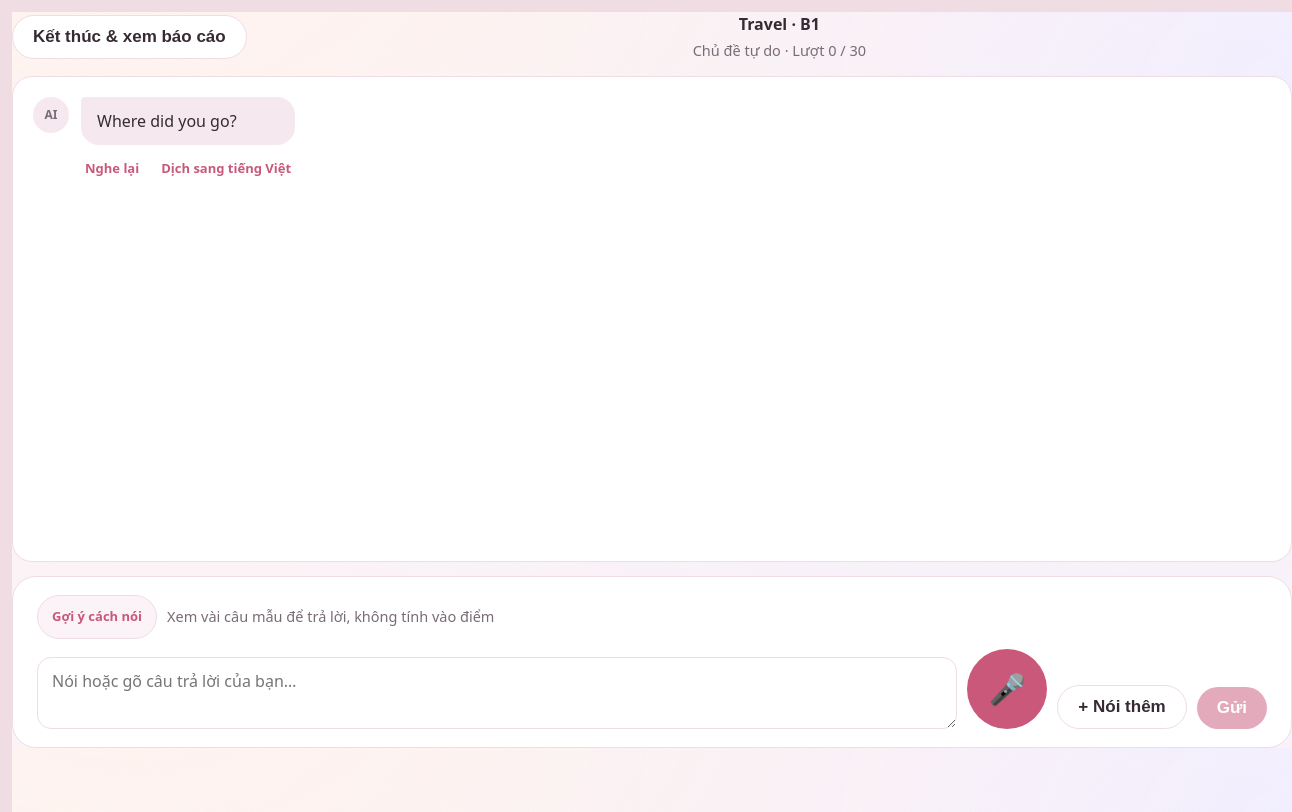
ConversationSessionPage — listen back before sending › drops a re-recorded take from the offer: nothing left to hear after Thu lại is pending
Click the button named "Bắt đầu ghi âm" at (1007, 689), box [967,649,1047,729]
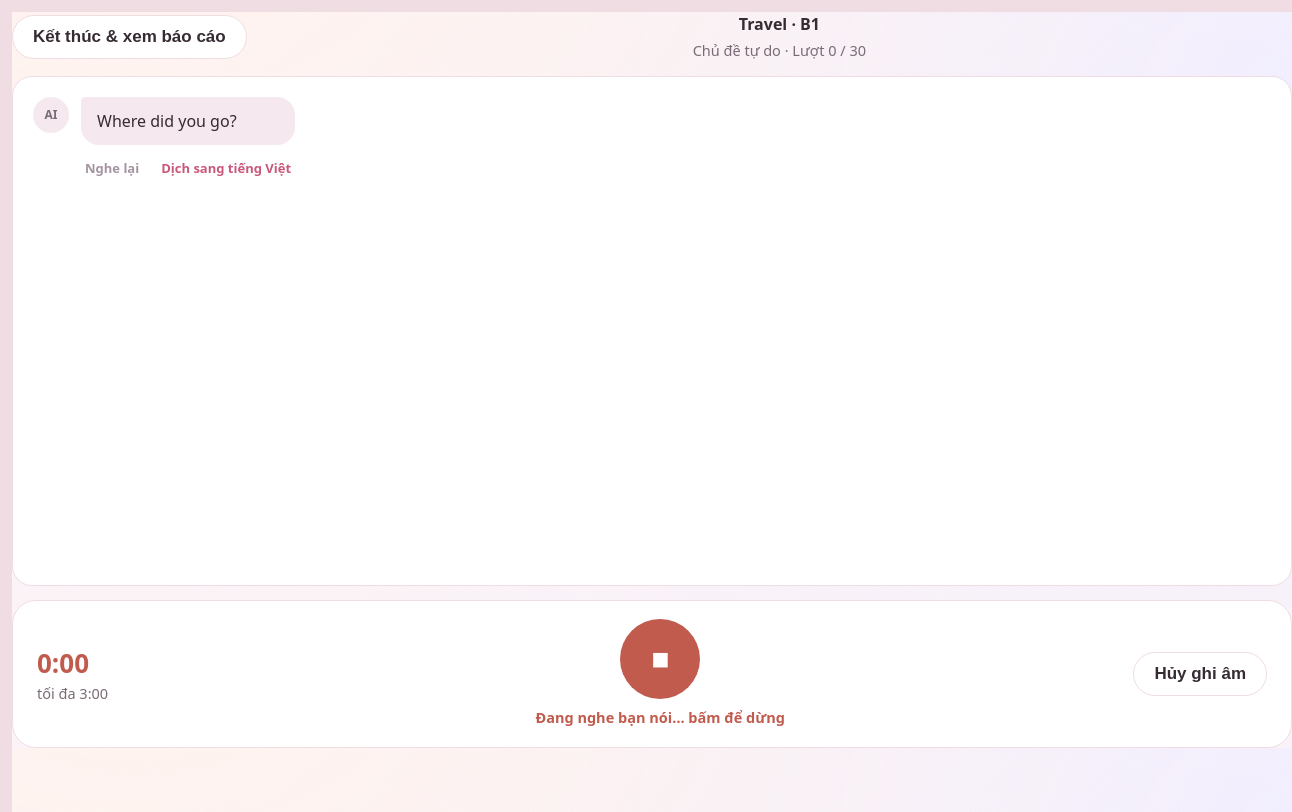
Click the button named "Dừng ghi âm" at (660, 659), box [620,619,700,699]
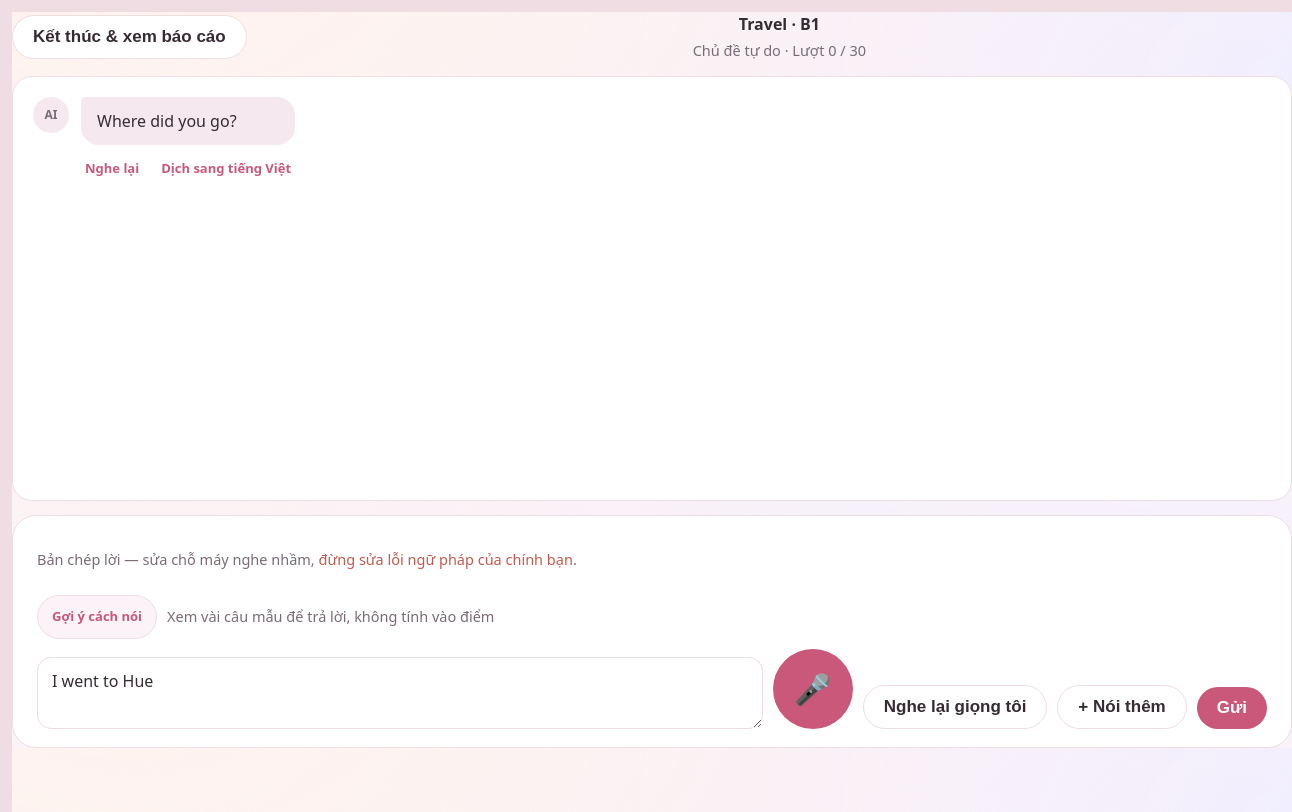
Result: the text box named "câu trả lời của bạn" is shown at [37,657,763,729]
Click the button named "Thu lại" at (813, 689), box [773,649,853,729]
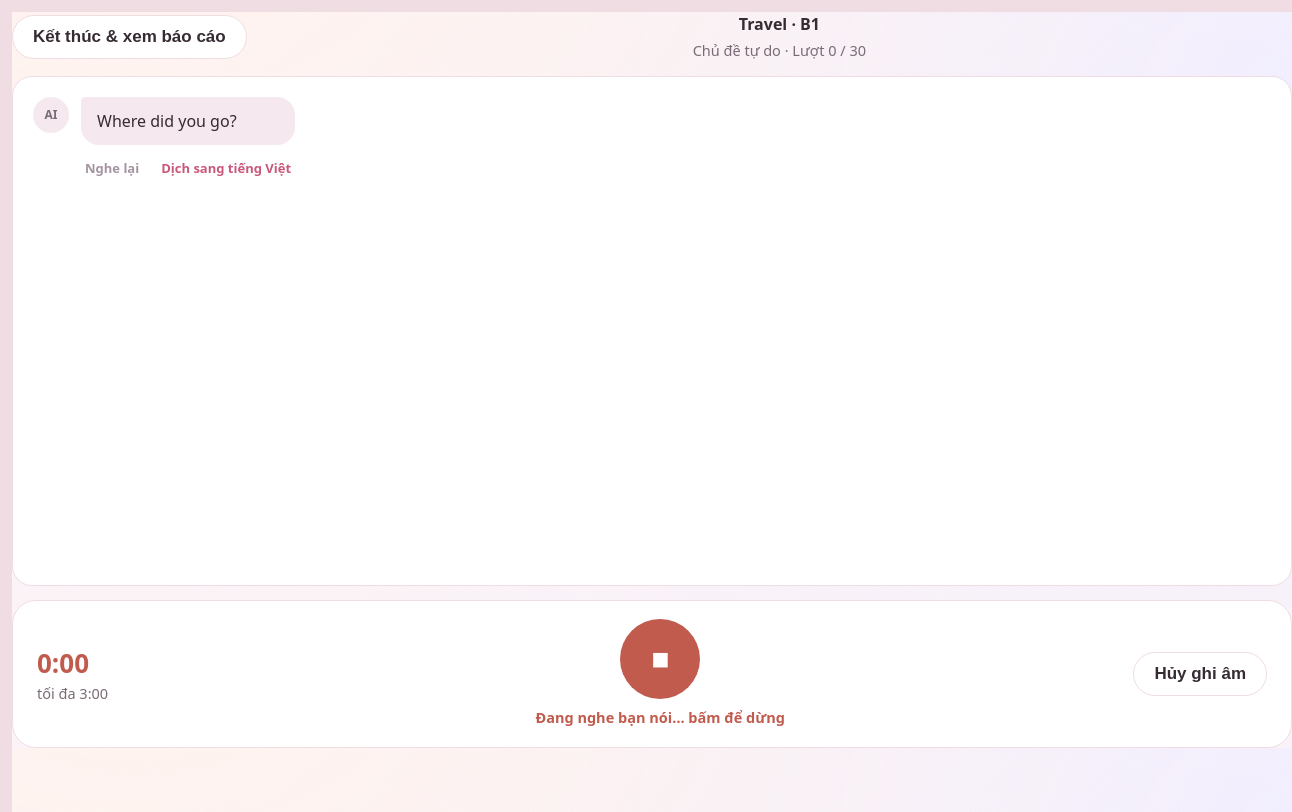
Result: the button named "Dừng ghi âm" is shown at [620,619,700,699]
Result: the button "Nghe lại giọng tôi" is gone
